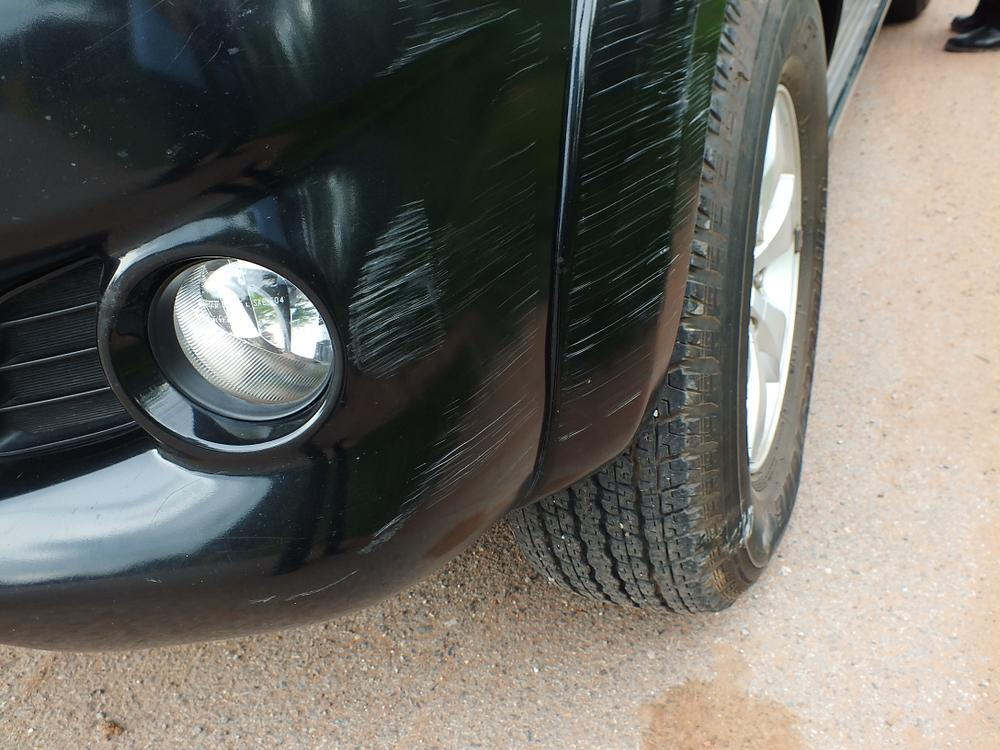scratch: (343, 0, 557, 559), (559, 0, 730, 435)
